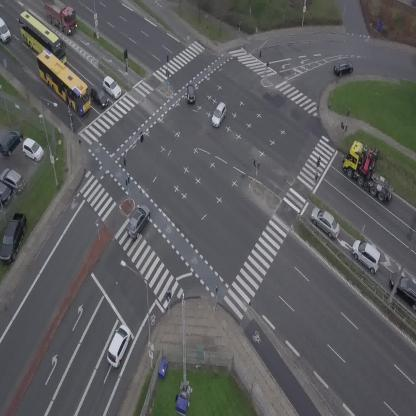bicycle: (68, 113, 75, 128)
bus: (28, 46, 100, 118), (8, 9, 76, 70)
car: (346, 236, 388, 276), (103, 322, 136, 369), (305, 204, 345, 241), (123, 201, 155, 240), (85, 83, 113, 110), (207, 101, 231, 129), (99, 75, 125, 100), (332, 58, 355, 78), (186, 84, 196, 104)
lorry: (335, 134, 399, 213), (0, 17, 11, 44)
